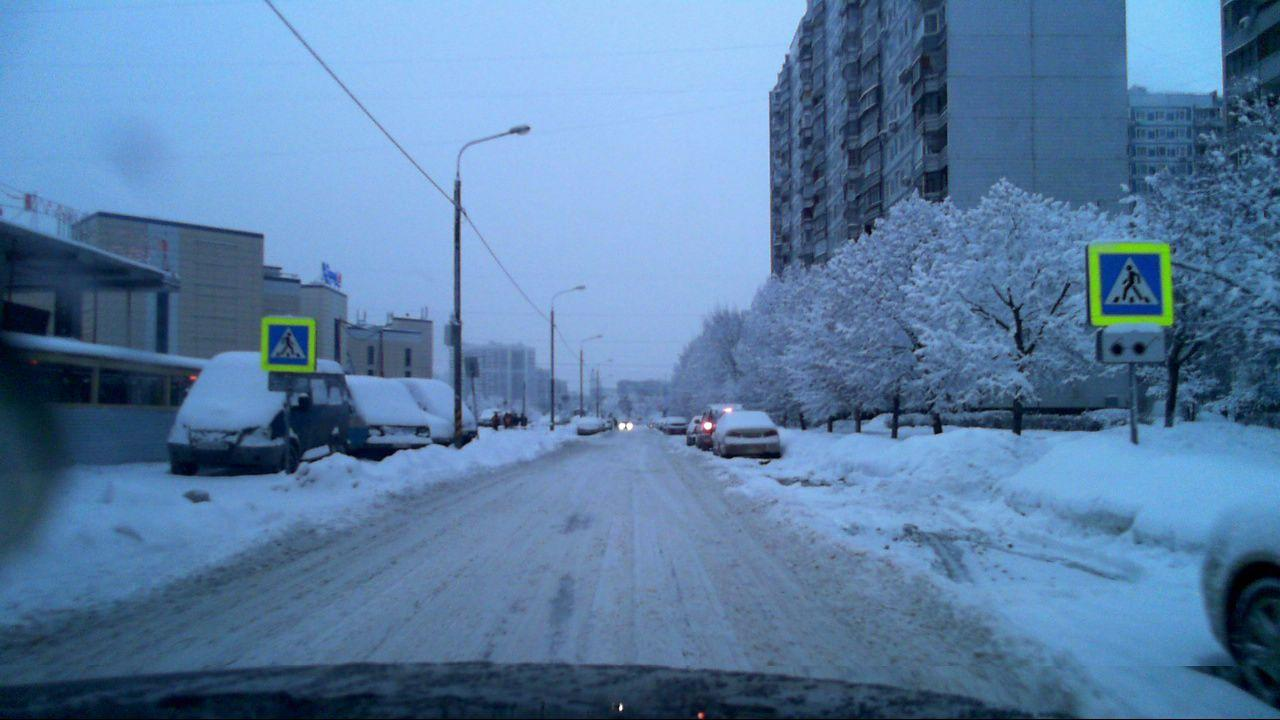5_19_1: (1093, 243, 1170, 321)
5_19_2: (269, 320, 310, 364)
8_15: (1096, 330, 1168, 364)
